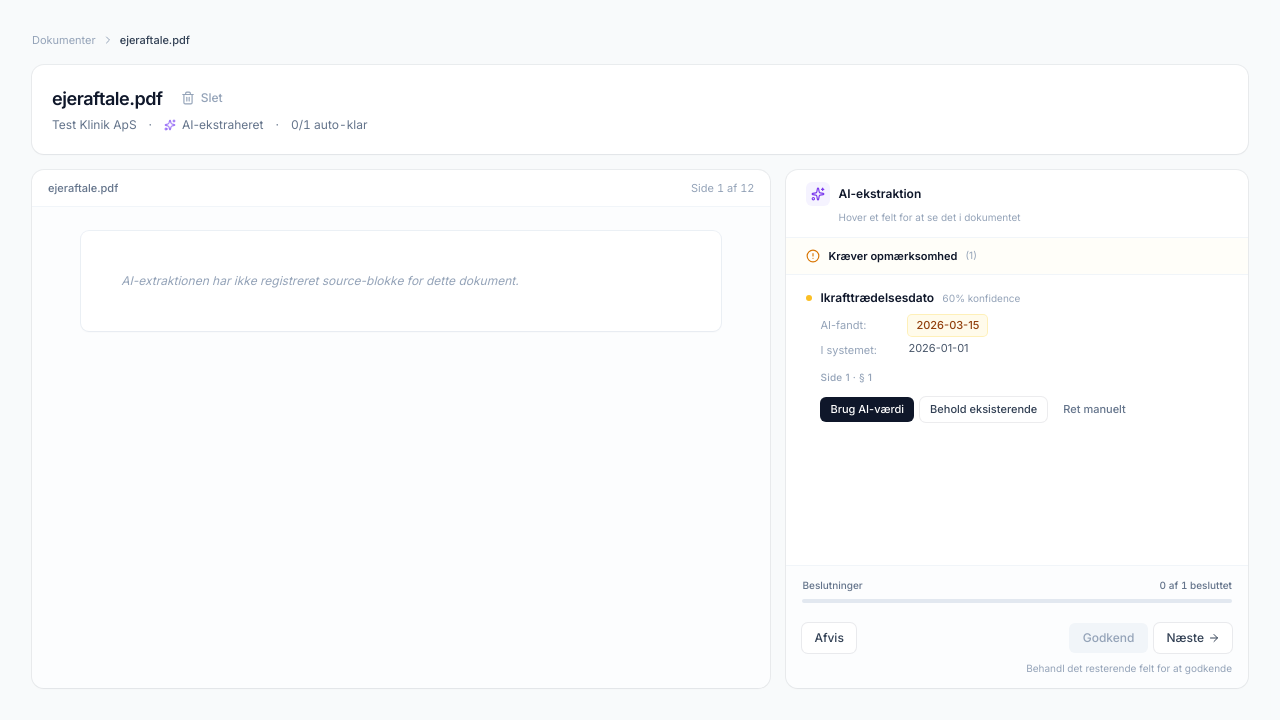
Scenario: ReviewClient › klik "Ret manuelt" åbner inline input pre-udfyldt med AI-værdi
Click the button "Ret manuelt".
click(1095, 409)  # box [1053,397,1136,422]
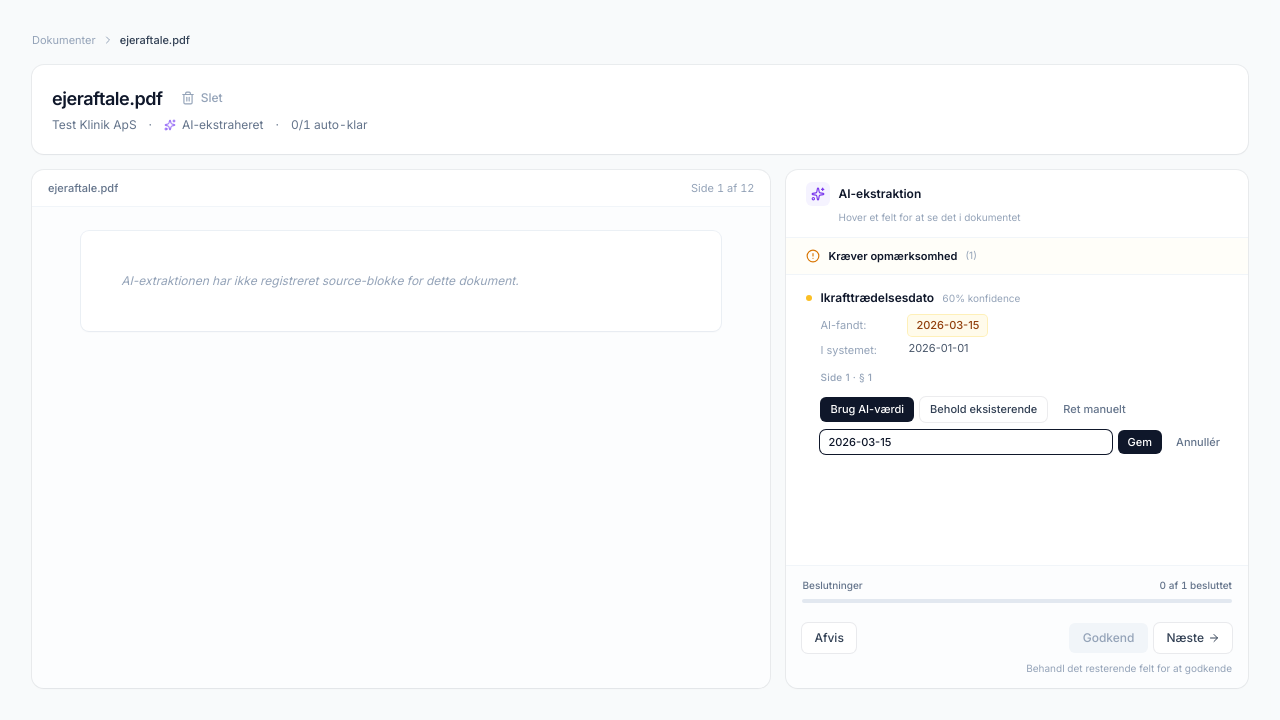
Expected: the field with placeholder "Indtast korrekt værdi..." holds "2026-03-15", [820,430,1112,454]
